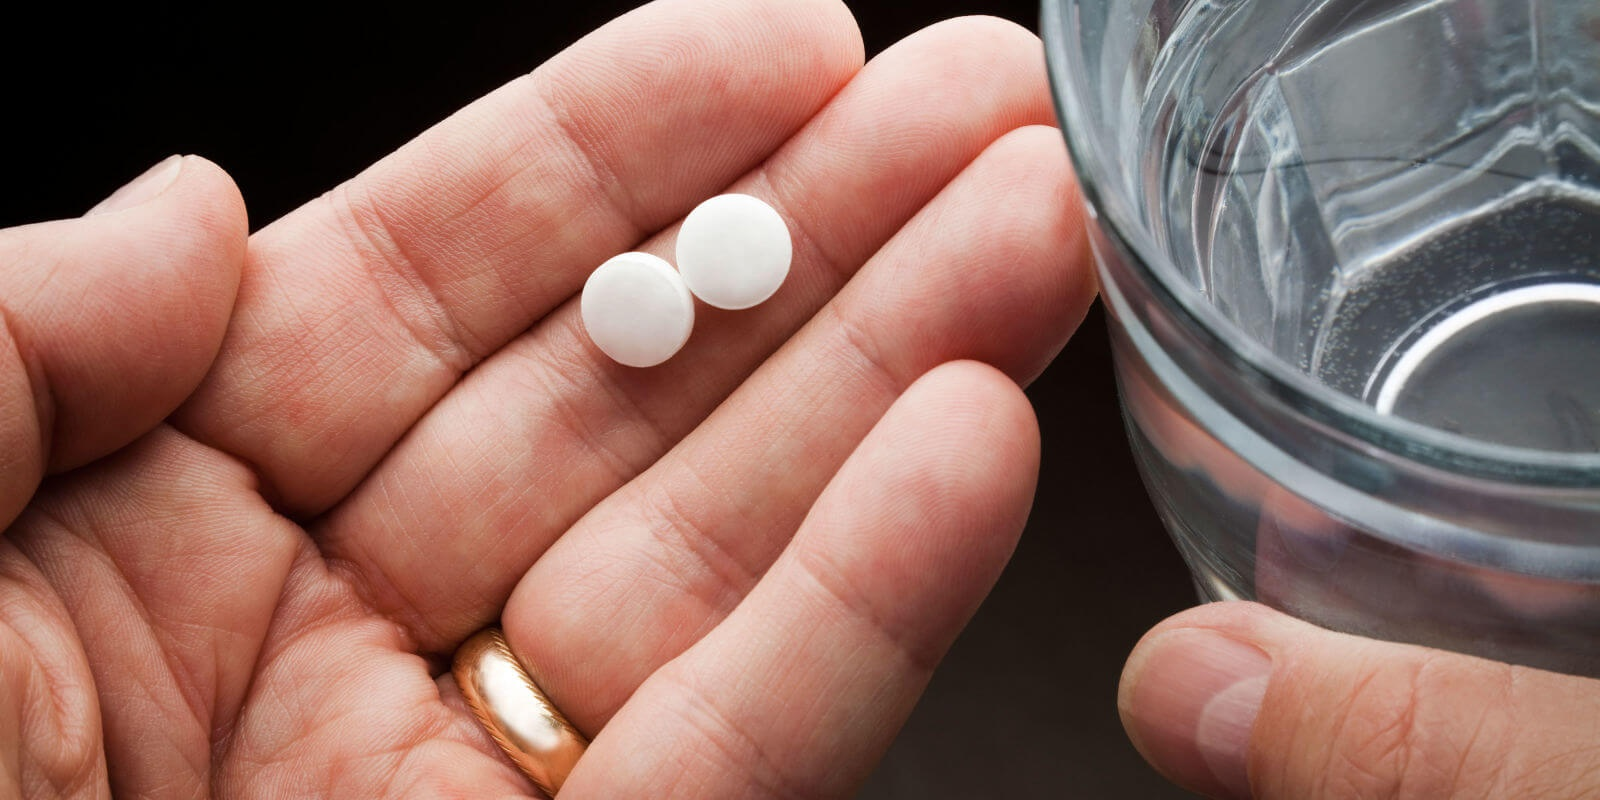pills: (688, 170, 804, 313), (576, 241, 692, 384)
